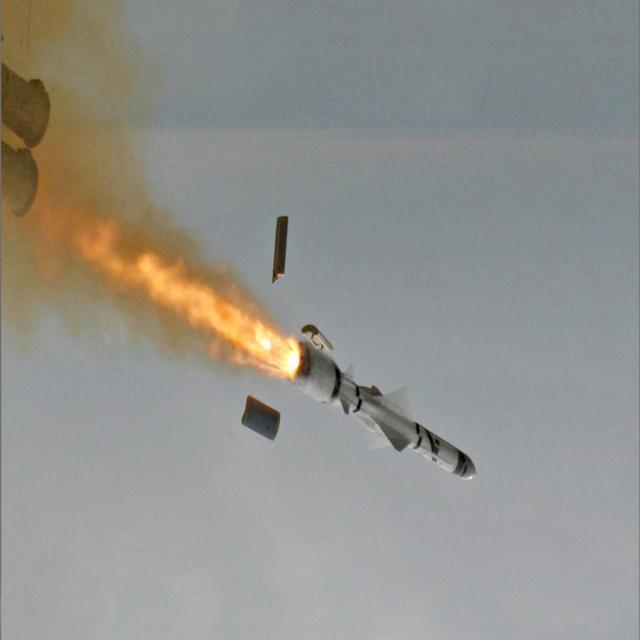missile: (287, 334, 487, 497)
